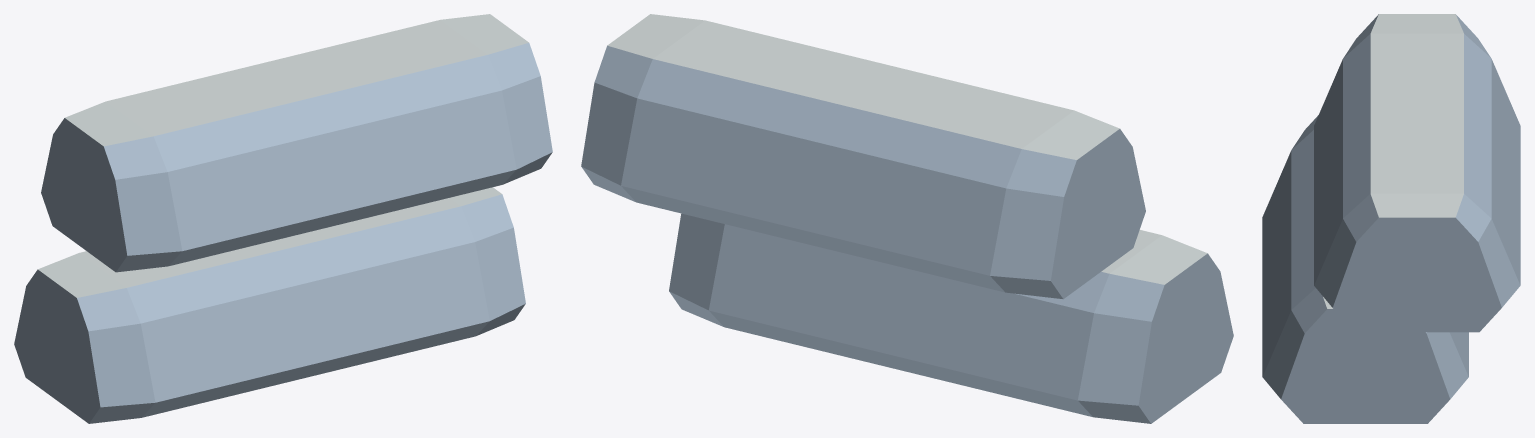
Rendered from titanium_bar.glb.
3 renders of one model, left to right at view 1: azimuth 30°, elevation 25°; view 2: azimuth 150°, elevation 25°; view 3: azimuth 270°, elevation 25°, orthographic. The views are drawn at different scales.
Parts seen in each view (by area): view 1: titanium_bar_v0; view 2: titanium_bar_v0; view 3: titanium_bar_v0.
Boxes of the visible parts, x1,y1,x2,y2 form: titanium_bar_v0: [14, 14, 552, 423]; titanium_bar_v0: [581, 14, 1233, 423]; titanium_bar_v0: [1262, 14, 1520, 423].
Bounding box in the file's own units: 0.315 × 0.15 × 0.15.
